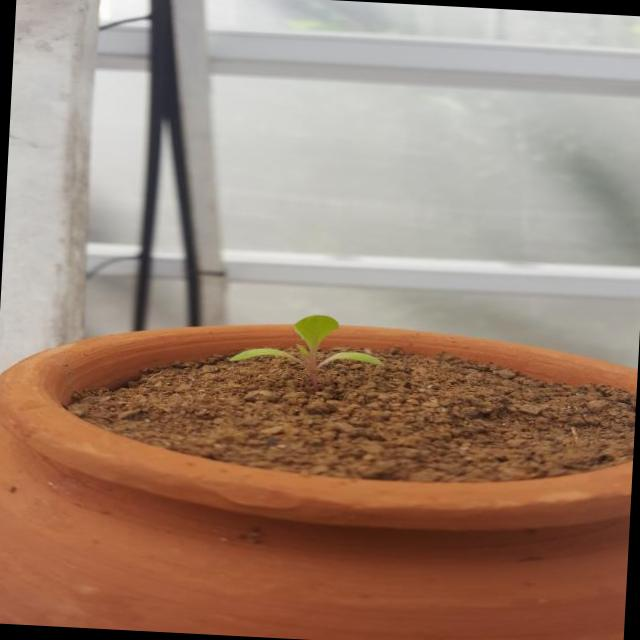Lettuce-Not-Ready-to-Harvest: (225, 306, 386, 384)
